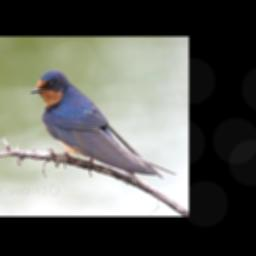Swallow: (29, 68, 177, 179)
